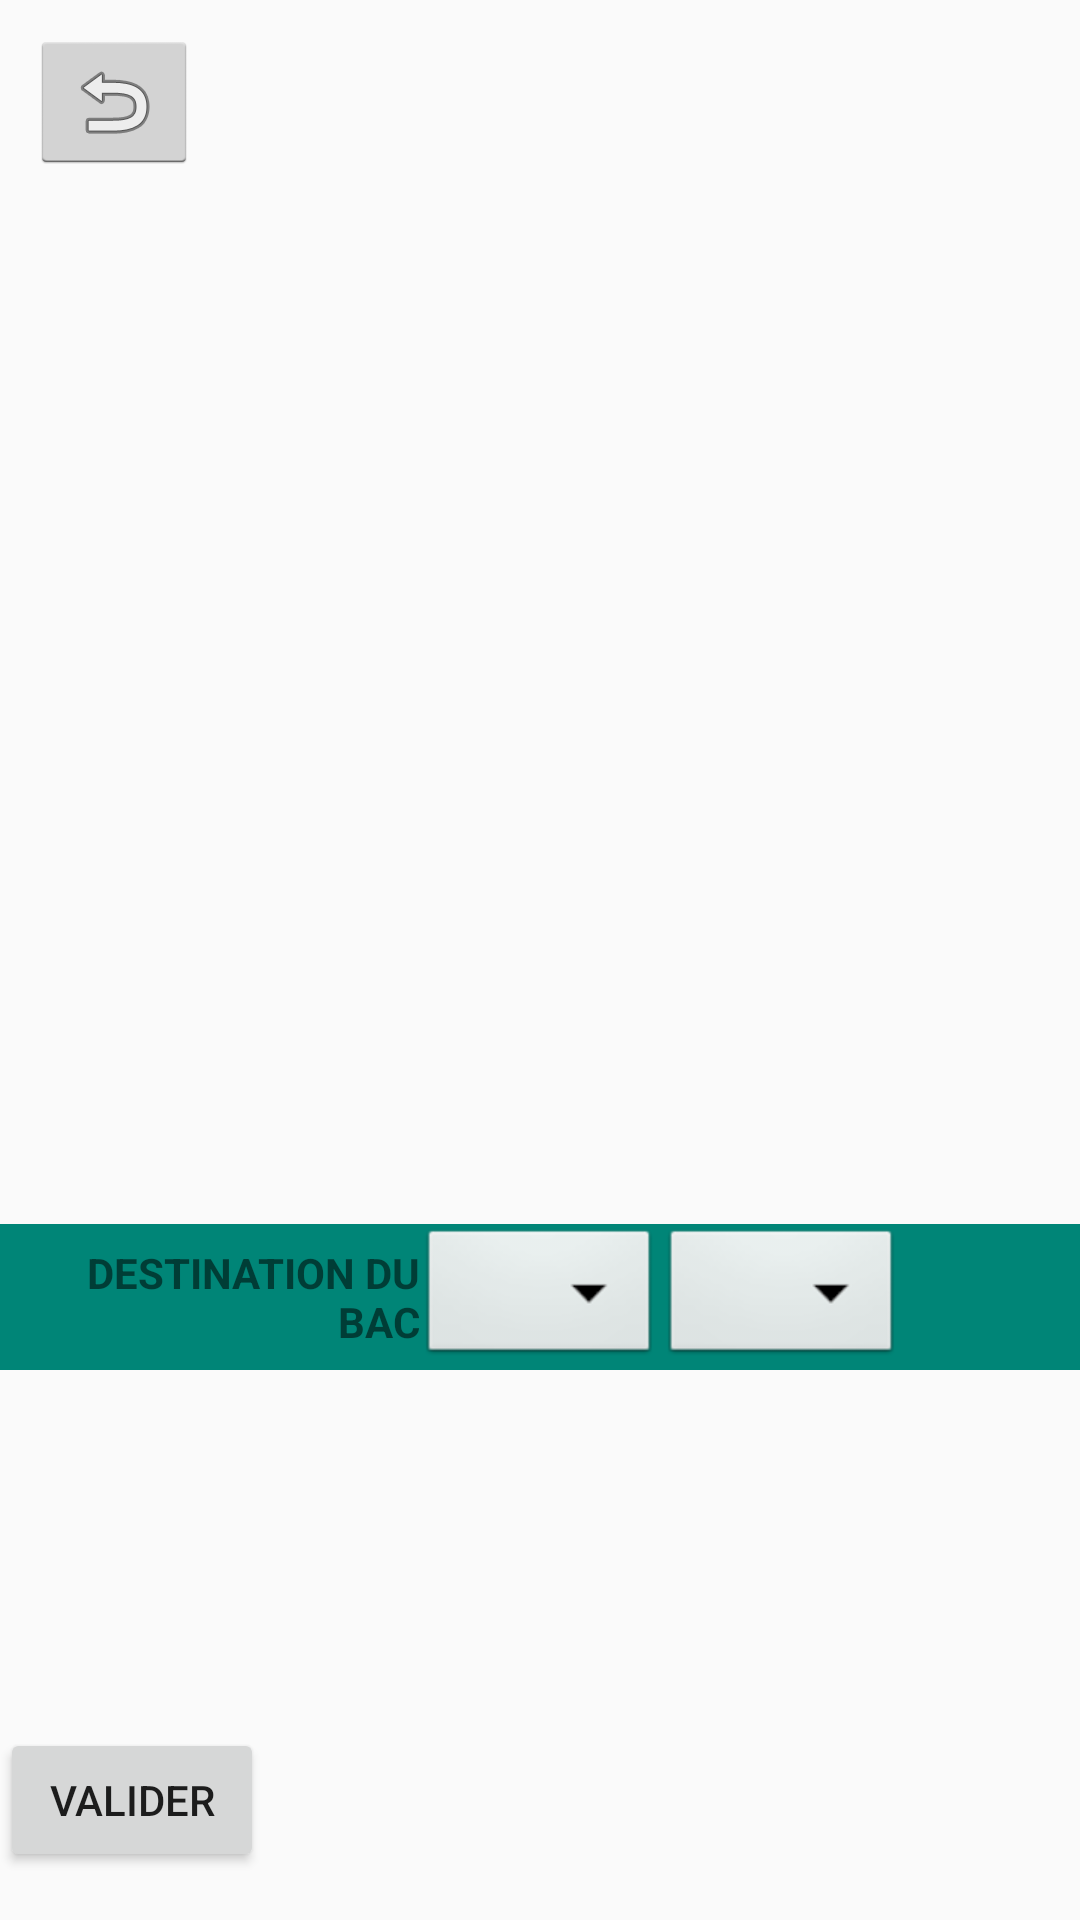

Icon bounding boxes for this 1080w x 1920h phone screenshot, format (x1, y1, x2, y2):
revert: (42, 43, 186, 163)
